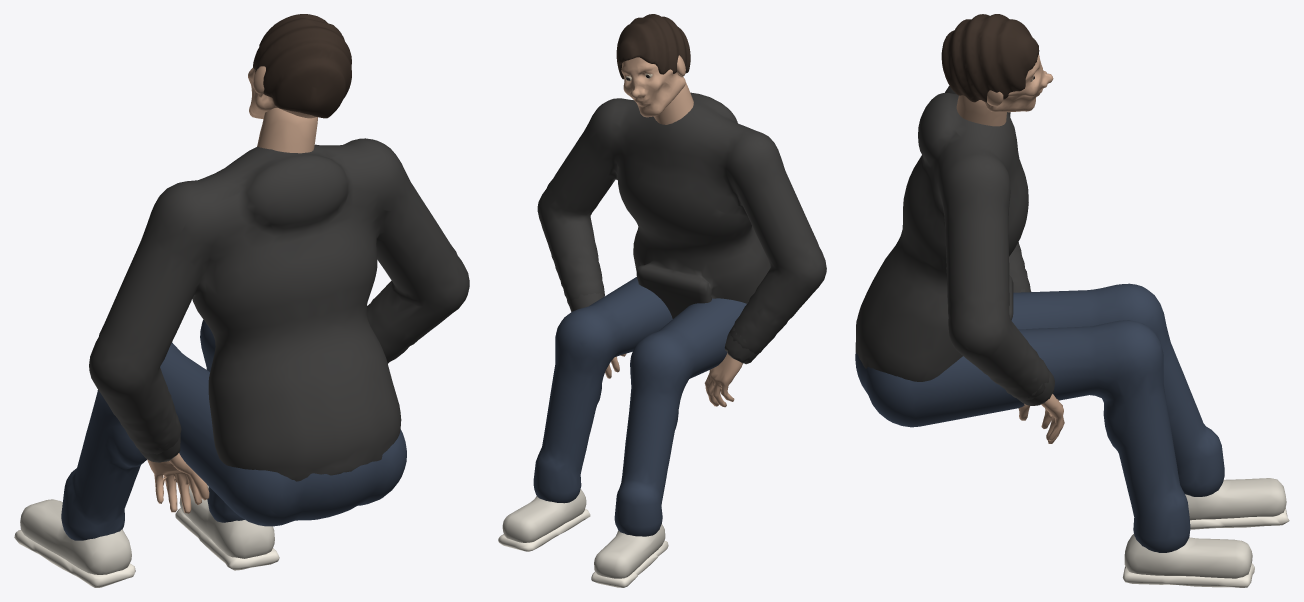
Rendered from vape.glb.
3 renders of one model, left to right at view 1: azimuth 30°, elevation 25°; view 2: azimuth 150°, elevation 25°; view 3: azimuth 270°, elevation 25°, orthographic. The views are drawn at different scales.
Parts seen in each view (by area): view 1: vape_body, vape_head, vape_hands; view 2: vape_body, vape_head, vape_hands; view 3: vape_body, vape_head, vape_hands.
Part boxes in pixels (x1,y1,x2,y2): vape_body: (14, 108, 469, 587); vape_head: (248, 14, 351, 119); vape_hands: (138, 434, 209, 513); vape_body: (498, 82, 826, 587); vape_head: (616, 14, 690, 117); vape_hands: (566, 280, 760, 407); vape_body: (855, 86, 1289, 587); vape_head: (941, 14, 1053, 112); vape_hands: (1014, 287, 1064, 443).
Size of the model in its own units: 0.7936 by 1.24 by 0.8919.
